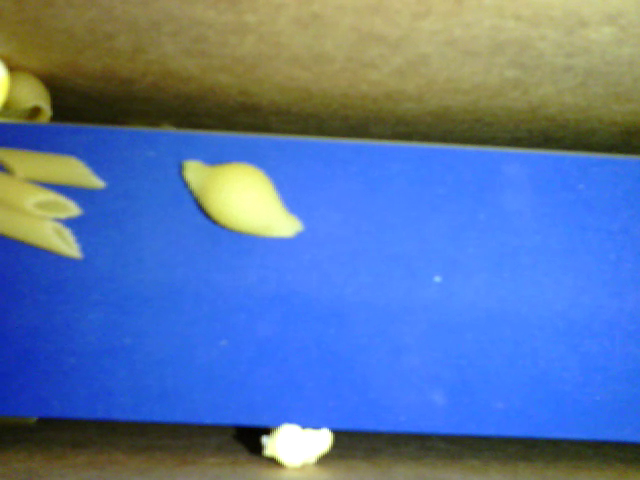penne: (3, 205, 86, 262), (1, 148, 109, 190), (3, 171, 86, 223)
shell: (179, 154, 305, 241), (1, 70, 51, 125)
